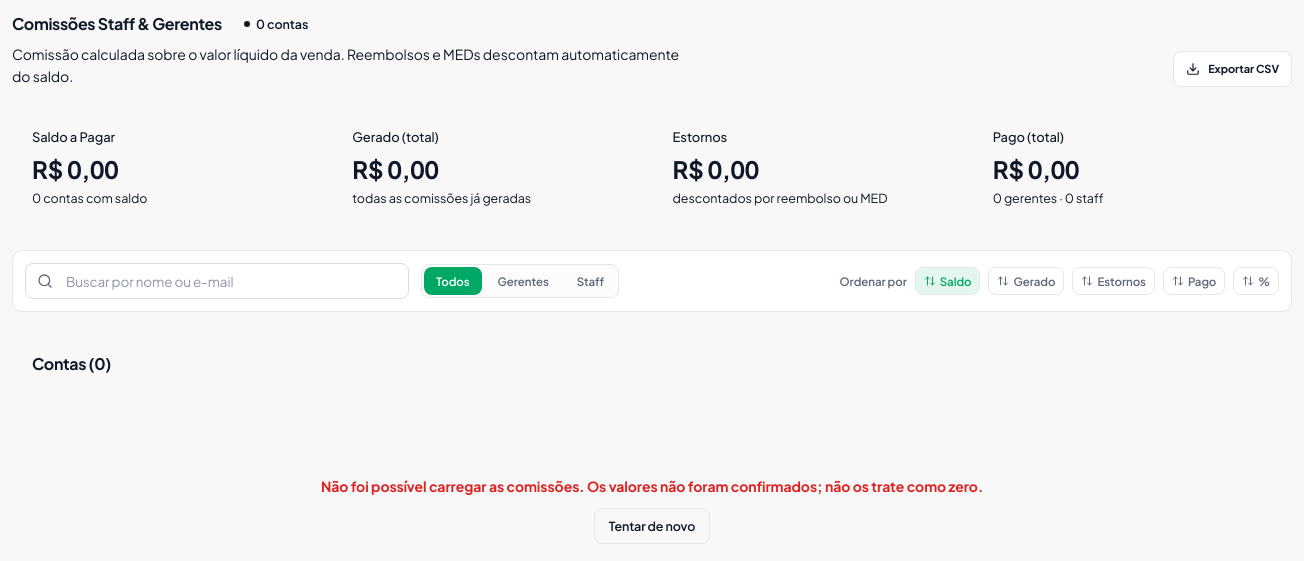
Test: AdminStaffCommissionsTab › falha ao consultar o ledger não mostra R$ 0,00: mostra erro e permite tentar de novo
The image size is (1304, 561).
Expected: the text "Não foi possível carregar as comissões" is shown, [321,477,983,495]
Expected: the text "Ana Staff" is not shown
What coordinates should you click on to do the following:
click the button "Tentar de novo"
I would click on:
 (652, 526)
Its box is [594,508,710,544].
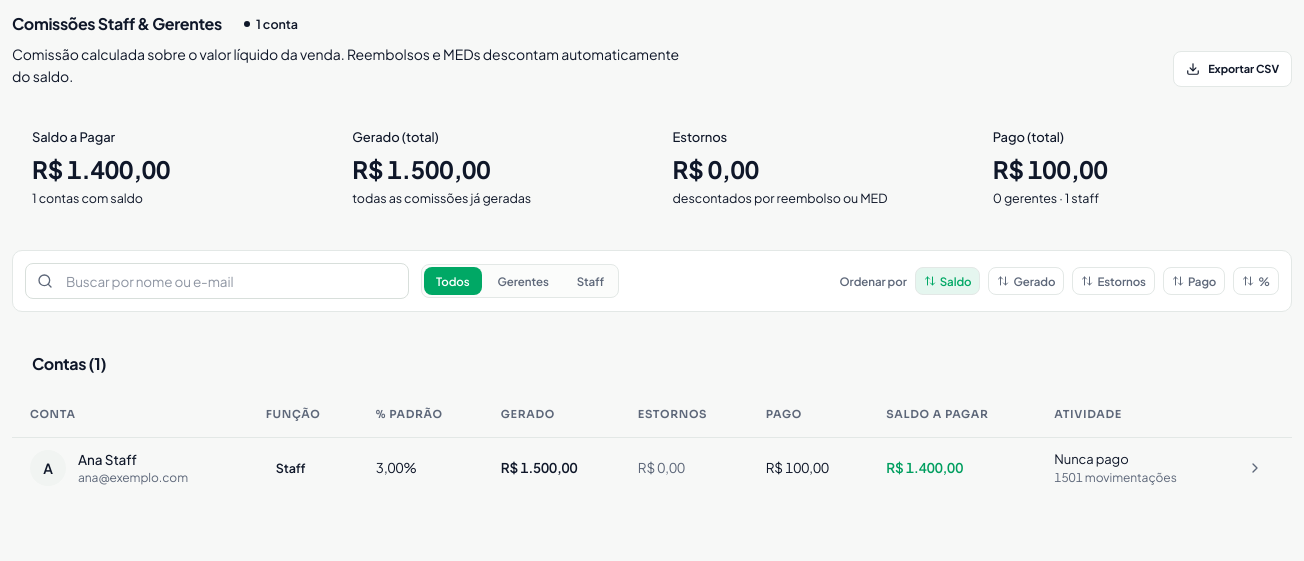
Now the text "Ana Staff" is shown, box [78,451,137,468]
